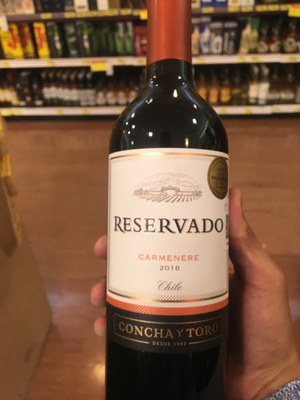reservado carmenere: (104, 6, 238, 400)
